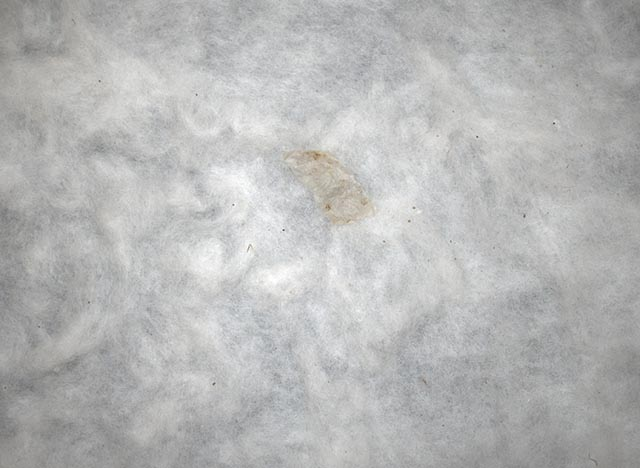plastic film: (281, 147, 377, 229)
